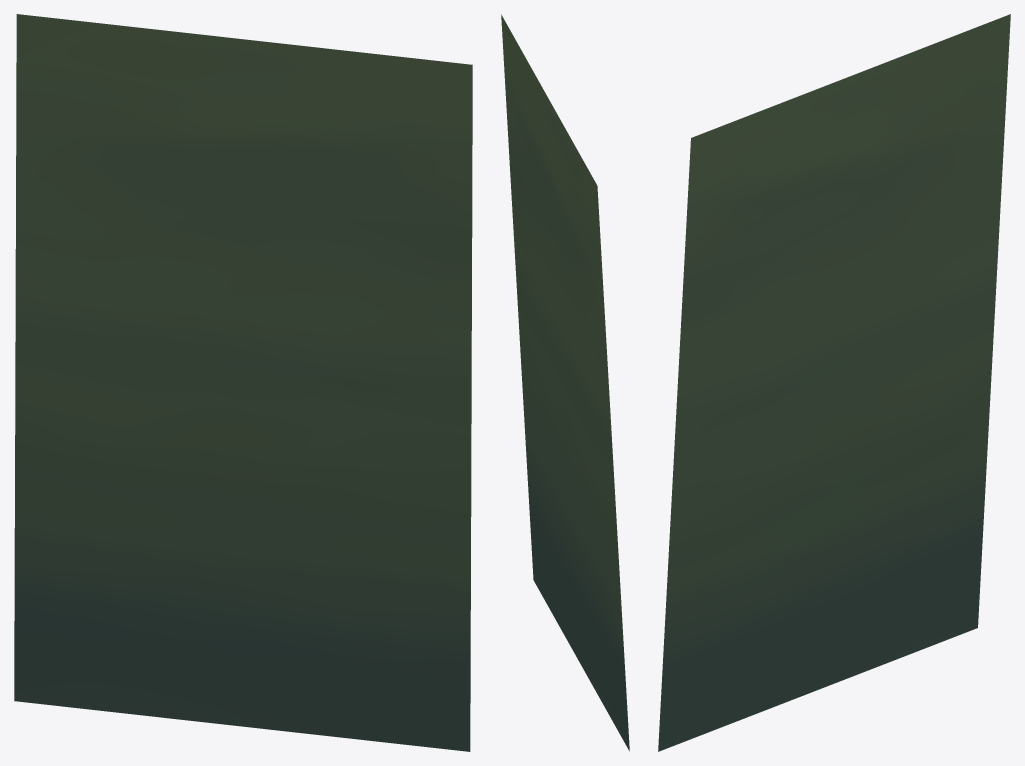
Rendered from pplane149_lambert6_0_lev2.glb.
The picture shows the model from 3 angles, left to right: view 1: azimuth 30°, elevation 25°; view 2: azimuth 150°, elevation 25°; view 3: azimuth 270°, elevation 25°; orthographic projection. The views are drawn at different scales.
Parts seen in each view (by area): view 1: pplane149_lambert6_0_lev2; view 2: pplane149_lambert6_0_lev2; view 3: pplane149_lambert6_0_lev2.
Boxes of the visible parts, <box> form: pplane149_lambert6_0_lev2: <box>14,14,472,751</box>; pplane149_lambert6_0_lev2: <box>501,14,629,751</box>; pplane149_lambert6_0_lev2: <box>658,14,1010,751</box>.
Size of the model in its own units: 0.0744 by 0.1575 by 0.0801.
1 material, 1 textured.
